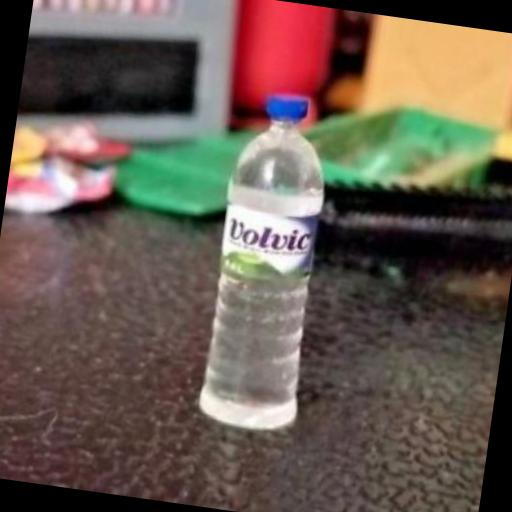Coca: (189, 79, 354, 445)
